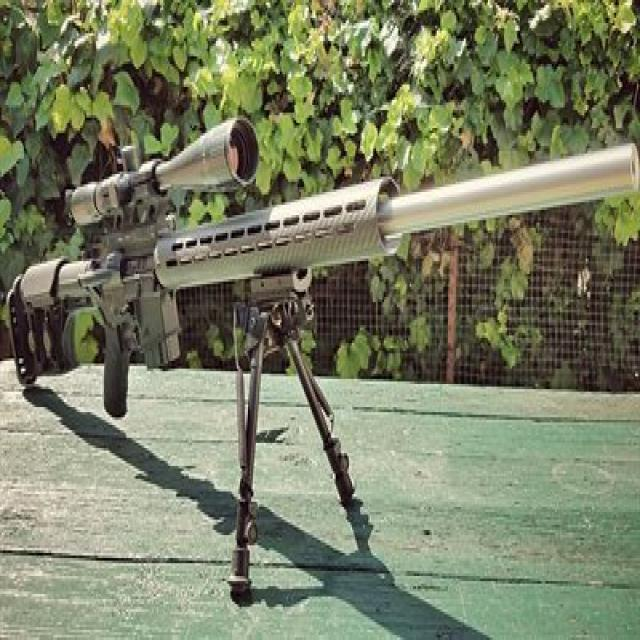Rifle: (5, 118, 640, 420)
